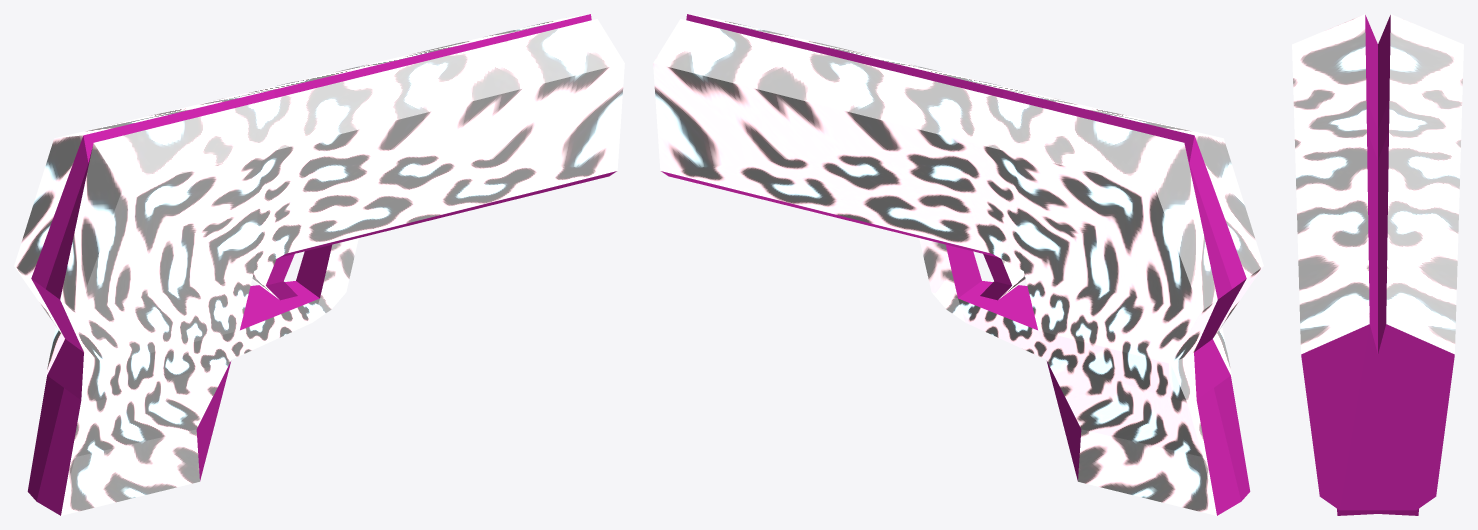
The model's file is pussybanger.glb.
The picture shows the model from 3 angles, left to right: view 1: azimuth 30°, elevation 25°; view 2: azimuth 150°, elevation 25°; view 3: azimuth 270°, elevation 25°; orthographic projection. The views are drawn at different scales.
Parts seen in each view (by area): view 1: Cube; view 2: Cube; view 3: Cube.
Boxes of the visible parts, x1,y1,x2,y2 form: Cube: [14, 14, 624, 515]; Cube: [653, 14, 1263, 515]; Cube: [1292, 14, 1463, 515].
Bounding box in the file's own units: 9.39 × 5.69 × 2.
